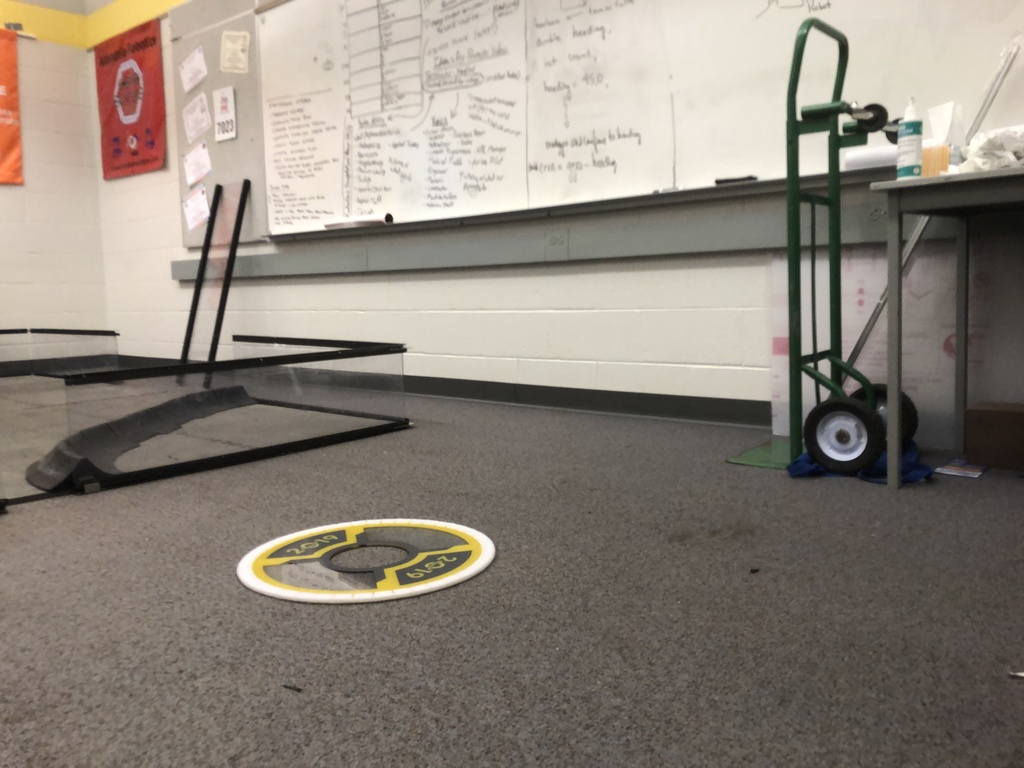hatch_panel: (226, 499, 501, 615)
